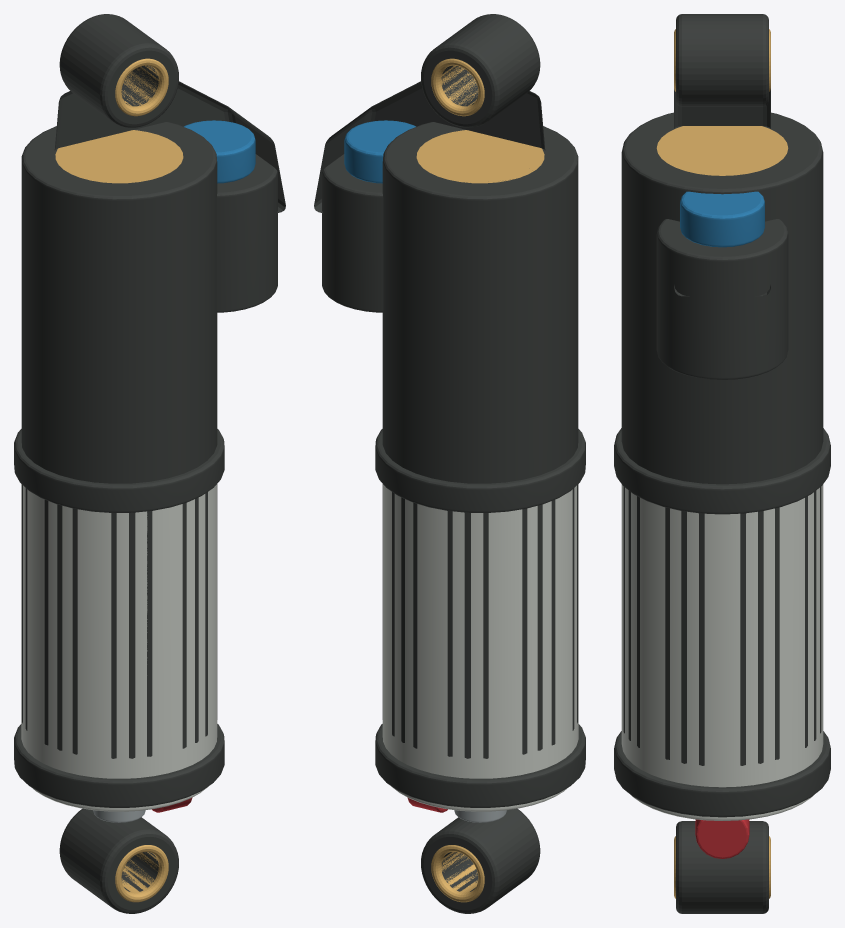
File: fox-float-x2-factory-my26--ba4d9689.glb
3 renders of one model, left to right at view 1: azimuth 30°, elevation 25°; view 2: azimuth 150°, elevation 25°; view 3: azimuth 270°, elevation 25°, orthographic. The views are drawn at different scales.
Parts seen in each view (by area): view 1: fox-float-x2-factory-my26--ba4d9689__link, fox-float-x2-factory-my26--ba4d9689__frame, fox-float-x2-factory-my26--ba4d9689__stanchions, fox-float-x2-factory-my26--ba4d9689__adjuster; view 2: fox-float-x2-factory-my26--ba4d9689__link, fox-float-x2-factory-my26--ba4d9689__frame, fox-float-x2-factory-my26--ba4d9689__stanchions, fox-float-x2-factory-my26--ba4d9689__adjuster; view 3: fox-float-x2-factory-my26--ba4d9689__link, fox-float-x2-factory-my26--ba4d9689__frame, fox-float-x2-factory-my26--ba4d9689__stanchions, fox-float-x2-factory-my26--ba4d9689__adjuster, fox-float-x2-factory-my26--ba4d9689__rebound.
Boxes of the visible parts, <box> form: fox-float-x2-factory-my26--ba4d9689__link: <box>14,14,285,913</box>; fox-float-x2-factory-my26--ba4d9689__frame: <box>21,484,217,811</box>; fox-float-x2-factory-my26--ba4d9689__stanchions: <box>55,58,183,902</box>; fox-float-x2-factory-my26--ba4d9689__adjuster: <box>184,120,255,183</box>; fox-float-x2-factory-my26--ba4d9689__link: <box>314,14,585,913</box>; fox-float-x2-factory-my26--ba4d9689__frame: <box>382,484,578,811</box>; fox-float-x2-factory-my26--ba4d9689__stanchions: <box>416,58,544,902</box>; fox-float-x2-factory-my26--ba4d9689__adjuster: <box>344,120,415,183</box>; fox-float-x2-factory-my26--ba4d9689__link: <box>614,14,830,913</box>; fox-float-x2-factory-my26--ba4d9689__frame: <box>621,484,823,820</box>; fox-float-x2-factory-my26--ba4d9689__stanchions: <box>656,29,788,898</box>; fox-float-x2-factory-my26--ba4d9689__adjuster: <box>680,191,764,247</box>; fox-float-x2-factory-my26--ba4d9689__rebound: <box>695,819,749,858</box>.
Size of the model in its own units: 0.074 by 0.254 by 0.056.
